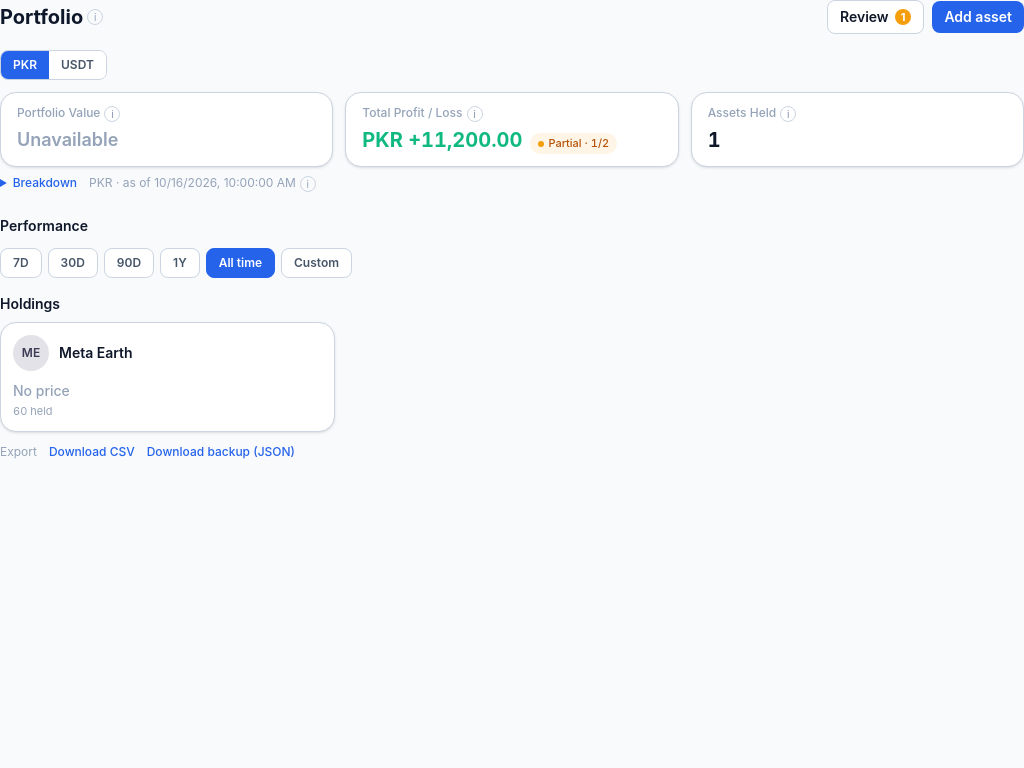
Scenario: entries recorded offline › a queued entry can be discarded before it is sent
This screenshot has width=1024, height=768.
Click the button "ME Meta Earth No price 60 held" at (31,353), box [0,322,335,432]
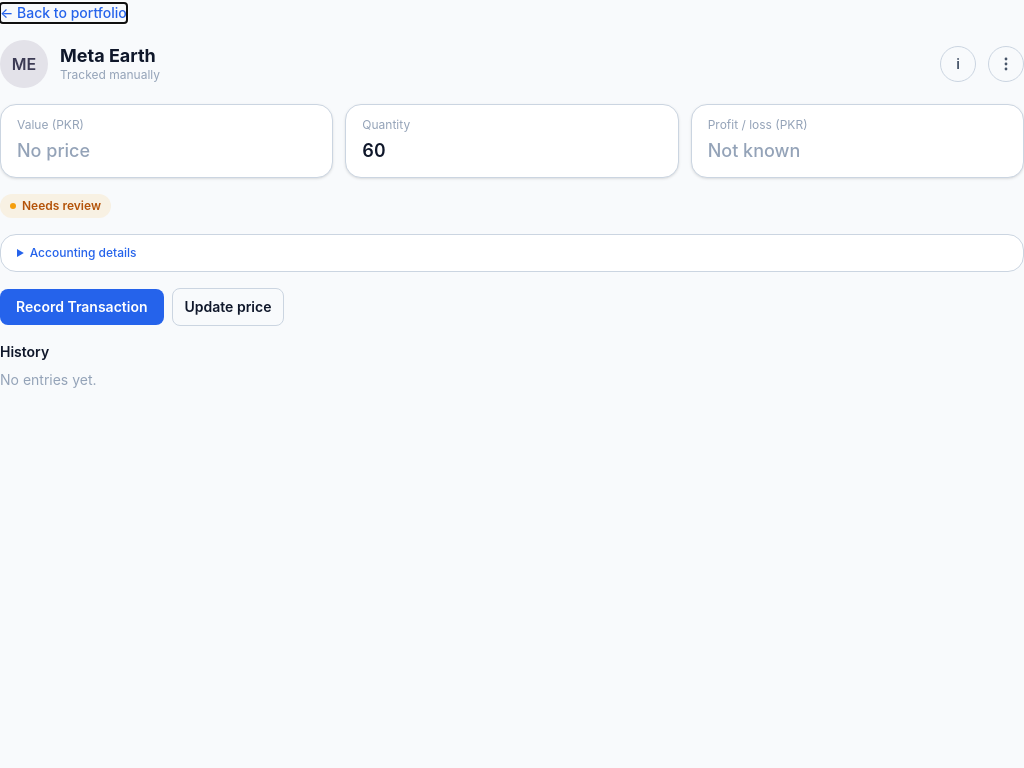
Click the button "Record Transaction" at (82,307), box [0,289,164,325]
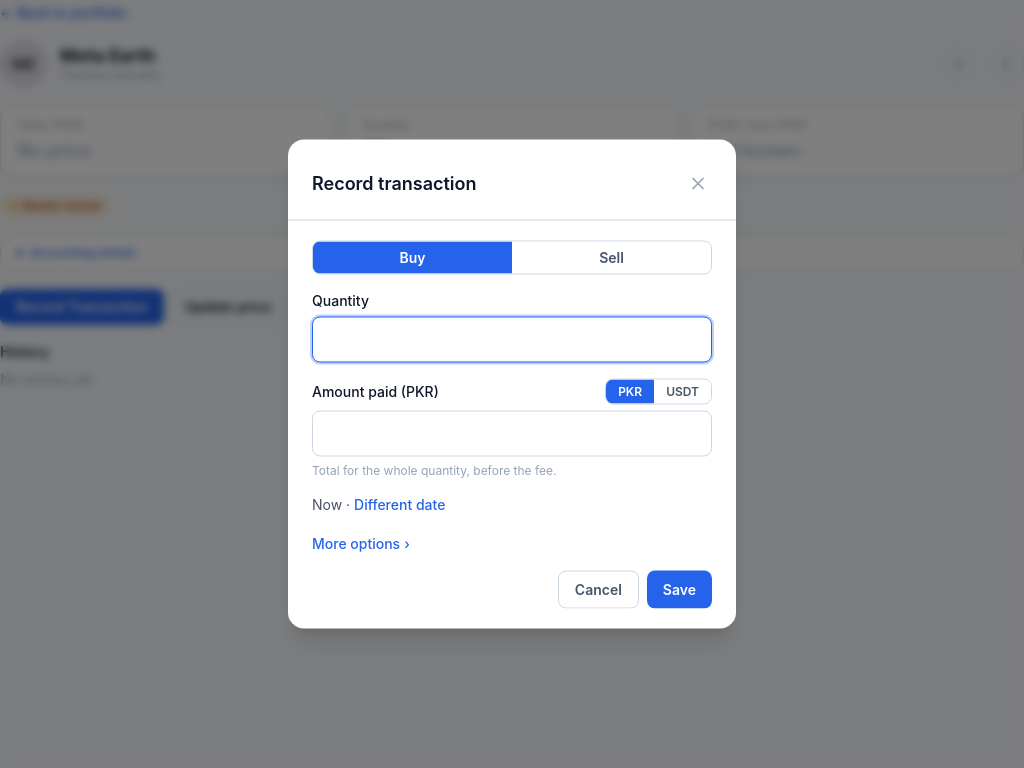
Type "10" into the field labelled "Quantity" at (512,340), box [312,316,712,362]
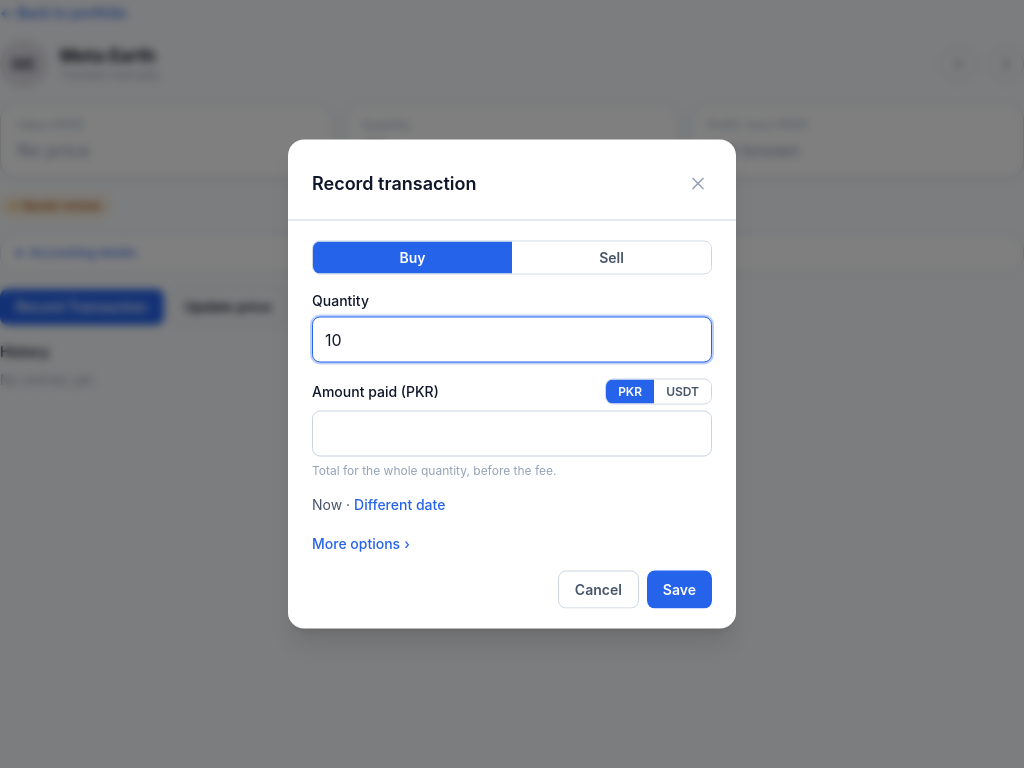
Type "1000" into the field labelled "Amount paid (PKR)" at (512,434), box [312,410,712,456]
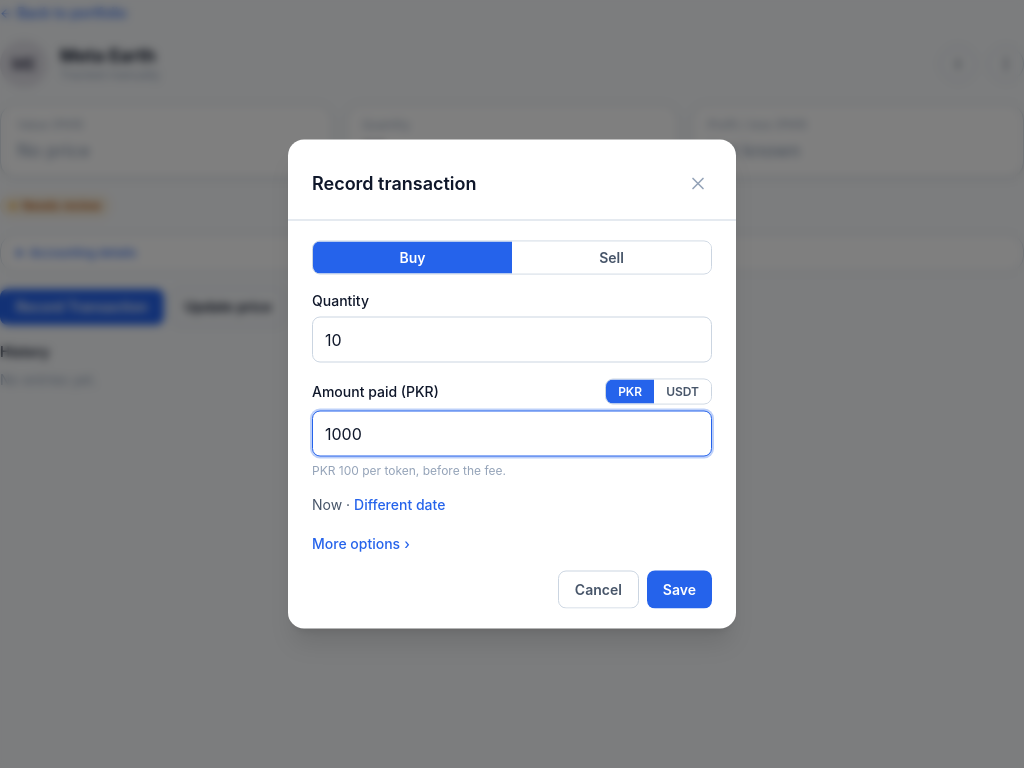
Click the button "Save" at (679,590), box [647,570,712,608]
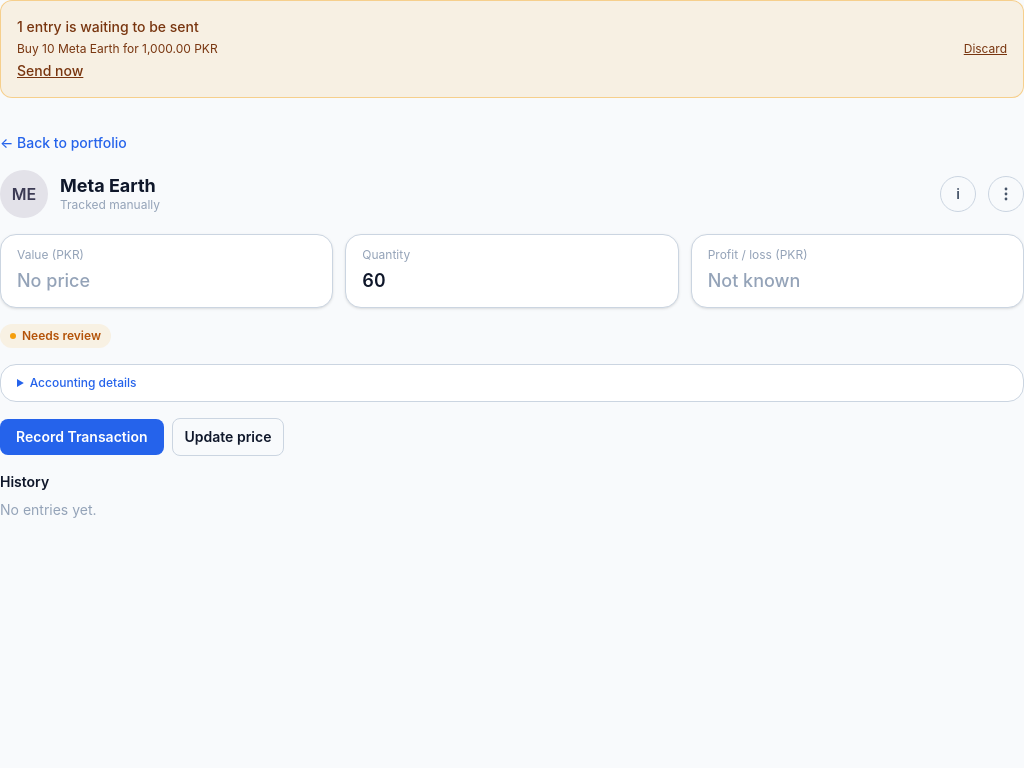
Click the button "Discard" at (985,49), box [964,41,1007,57]
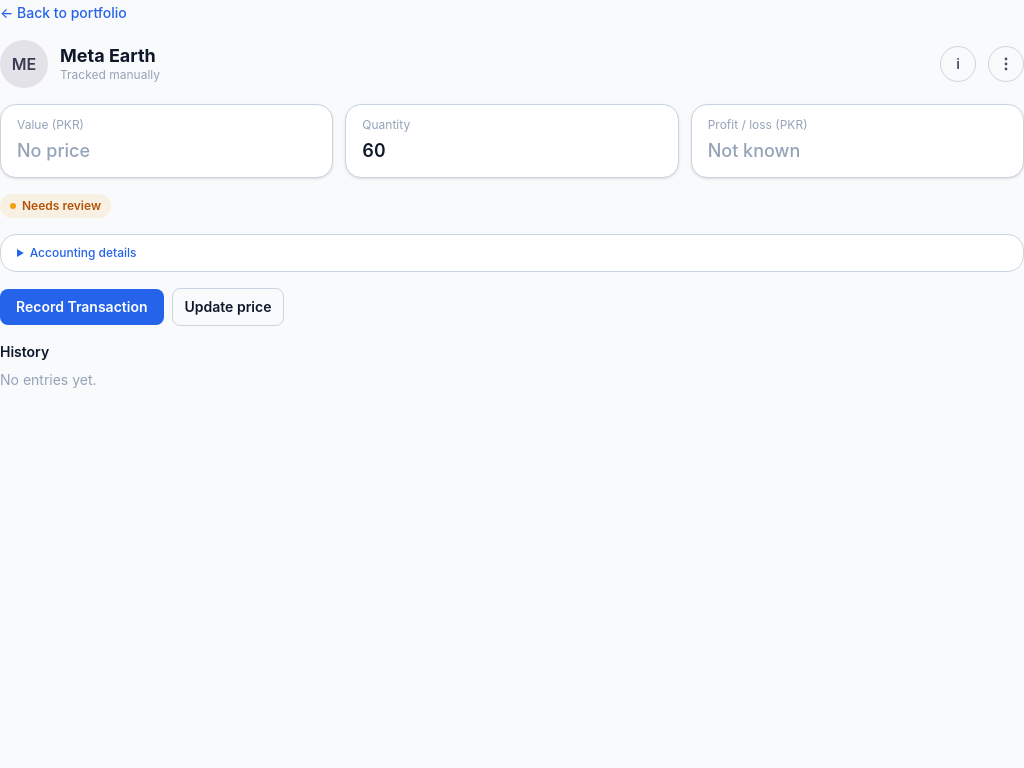
Check: the text "waiting to be sent" is gone
